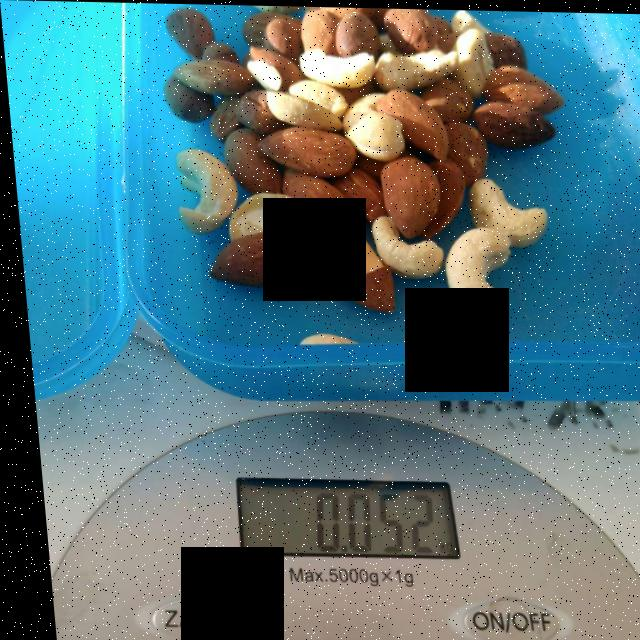mixed-nuts: (166, 14, 559, 325)
